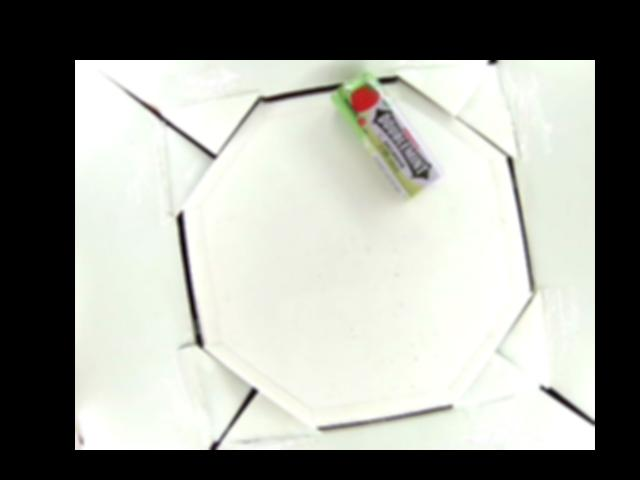Bottle: (335, 71, 443, 200)
